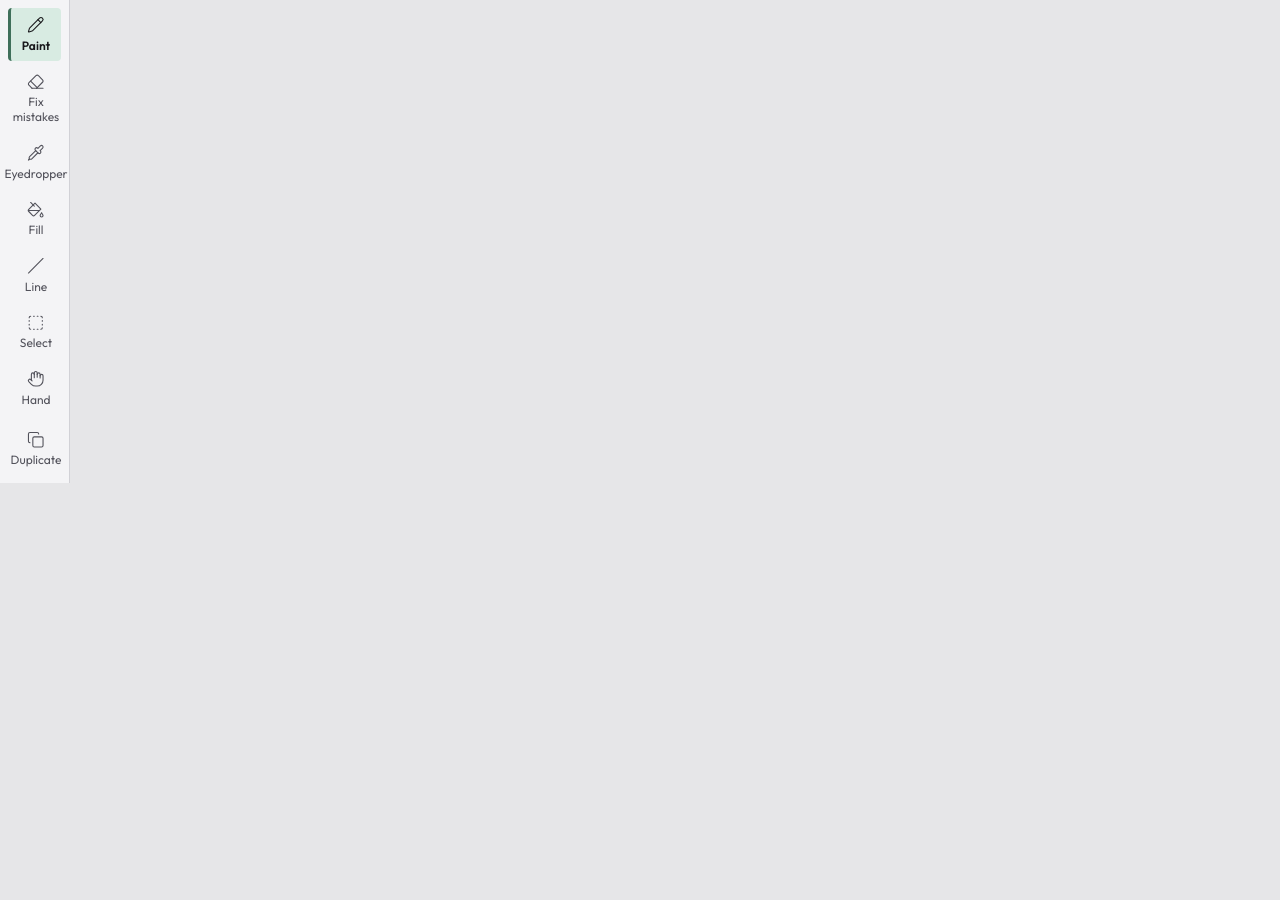
LeftToolRail › opens duplicate dialog instead of changing active tool
The image size is (1280, 900).
Click the button with aria-label "Duplicate frames": (34, 449) [8, 422, 61, 475]
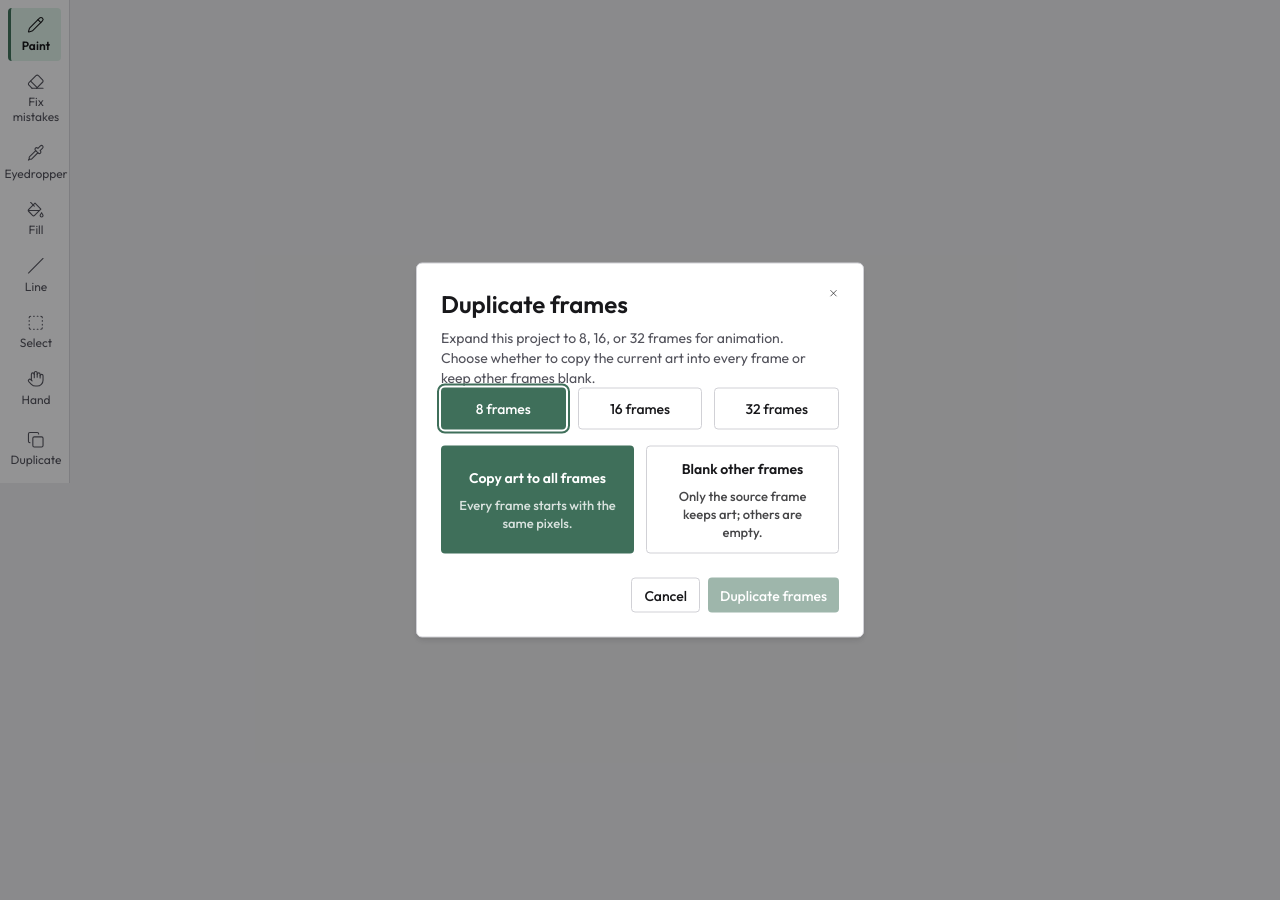
Result: the dialog is shown at [416, 262, 864, 638]
Result: the text "Expand this project to 8, 16, or 32 frames for animation. Choose whether to copy the current art into every frame or kee" is shown at [441, 328, 806, 386]
